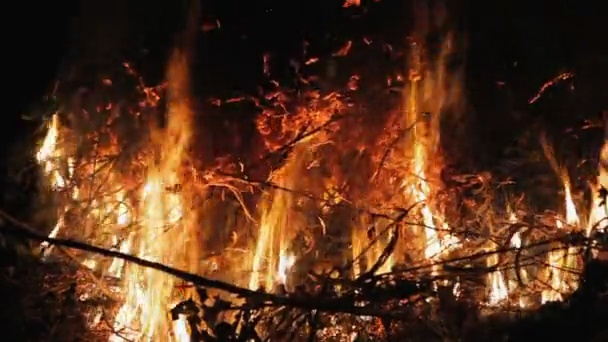fire: (36, 109, 192, 342), (411, 138, 457, 262), (245, 191, 296, 291), (539, 248, 579, 302), (588, 167, 607, 232), (487, 257, 505, 307), (565, 180, 577, 227), (513, 234, 521, 248)
